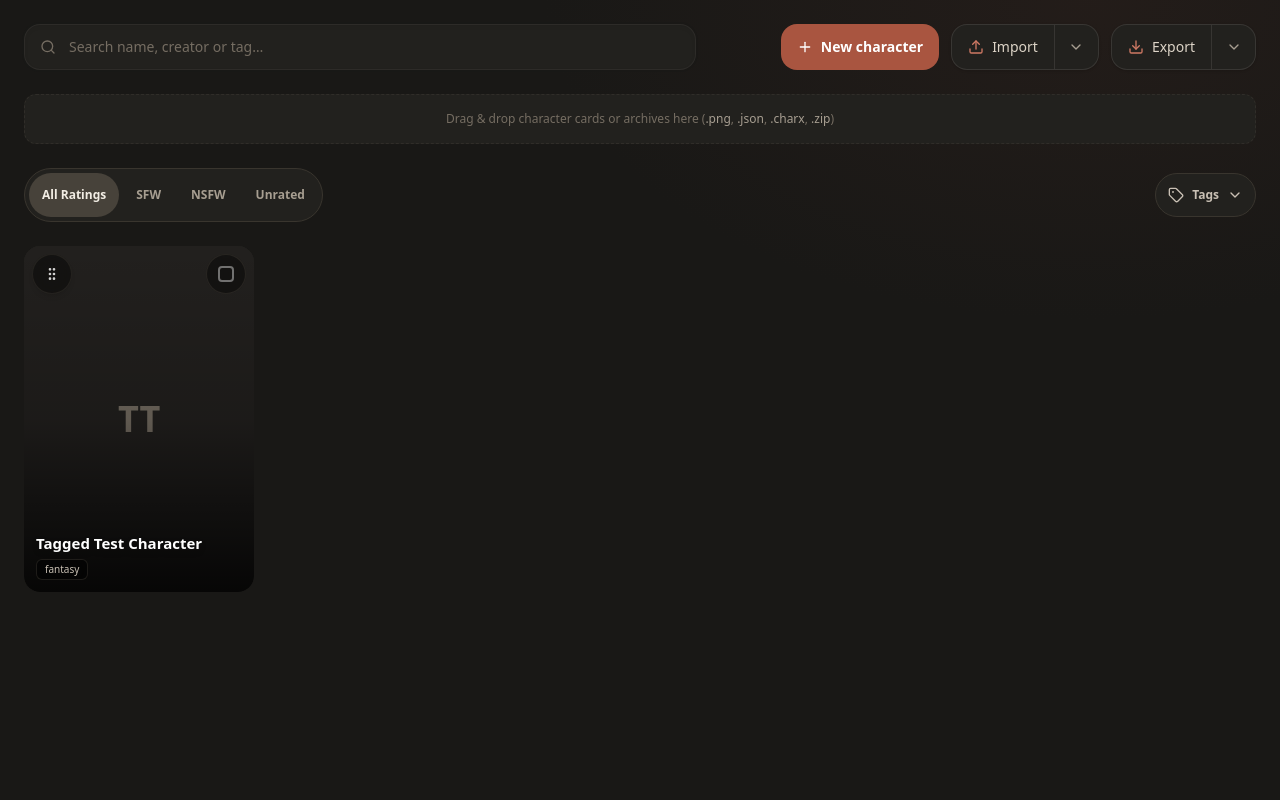
it: Library mobile controls › uses labelled filter groups and minimum touch-height controls
The width and height of the screenshot is (1280, 800).
Expected: the element named "Rating filter" is shown, [24,168,323,222]
Step 1. Click the button "Tags" → (1206, 195), box [1155,173,1256,217]
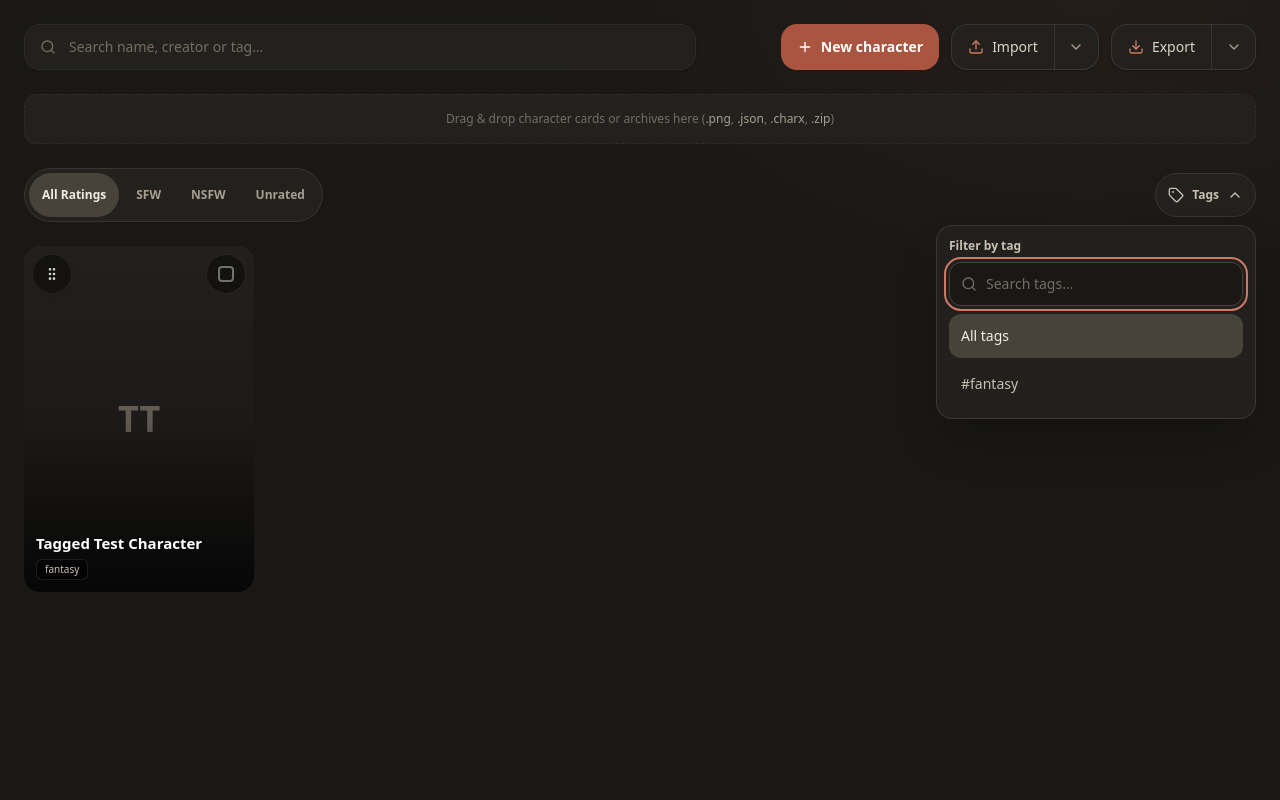
Now the search field labelled "Filter by tag" is shown, box [949,262,1243,306]
Step 2. Click the button "#fantasy" → (994, 384), box [949,362,1243,406]
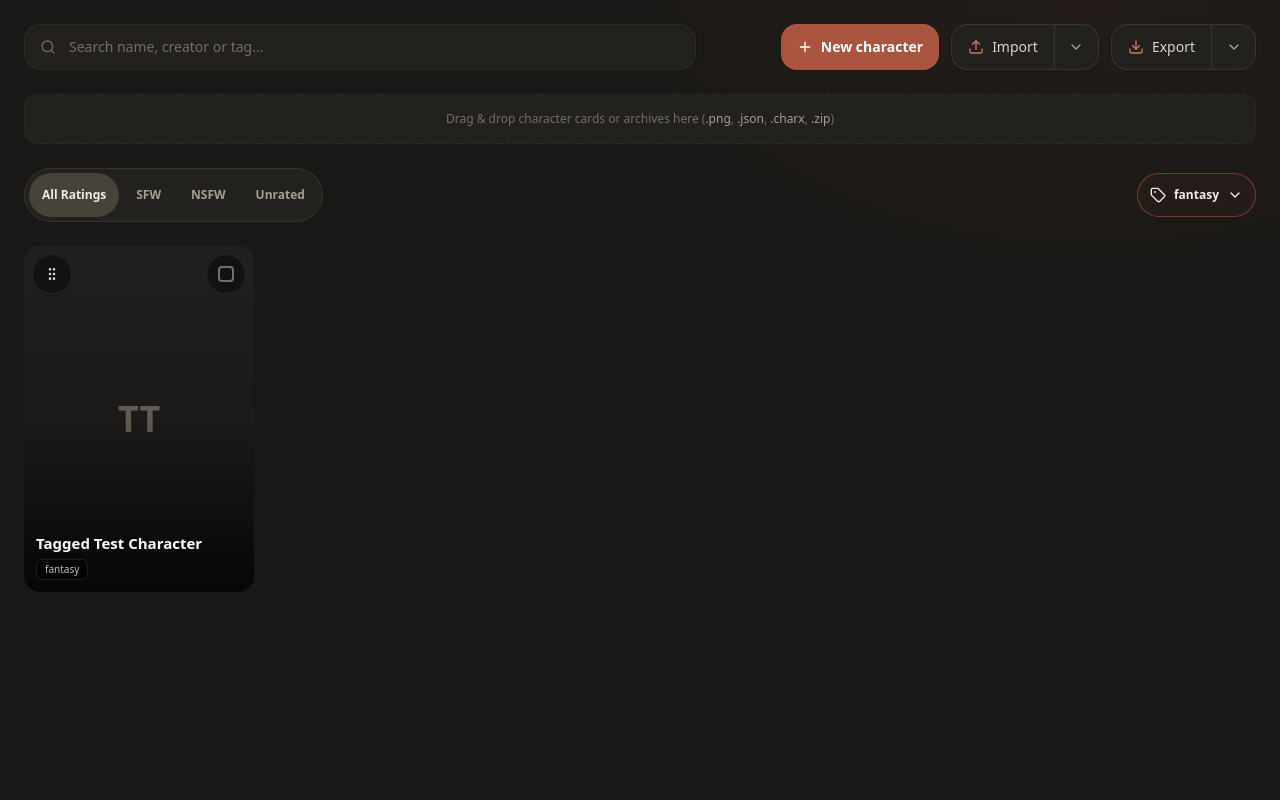
Now the button with aria-label "Tags: fantasy" is shown, box [1137,173,1256,217]
